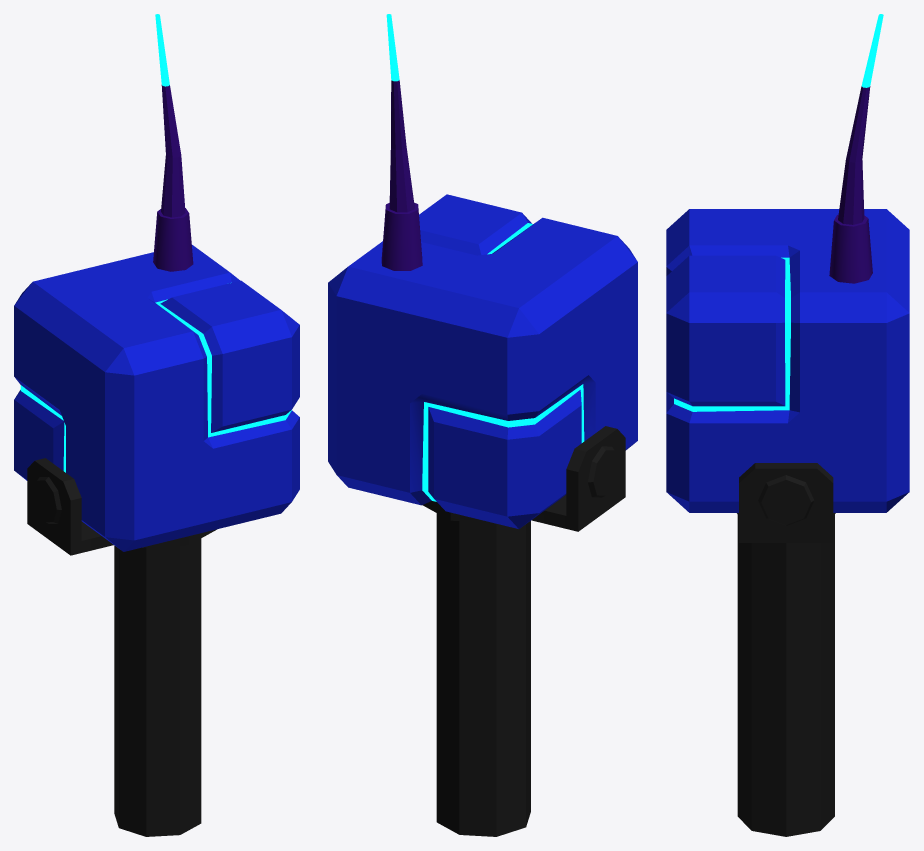
The picture shows the model from 3 angles, left to right: view 1: azimuth 30°, elevation 25°; view 2: azimuth 150°, elevation 25°; view 3: azimuth 270°, elevation 25°; orthographic projection. The views are drawn at different scales.
Parts seen in each view (by area): view 1: Tower1; view 2: Tower1; view 3: Tower1.
Part boxes in pixels (x1,y1,x2,y2): Tower1: (14,14,299,836); Tower1: (328,14,637,836); Tower1: (666,14,909,836).
Bounding box in the file's own units: 46.2 × 149 × 40.
